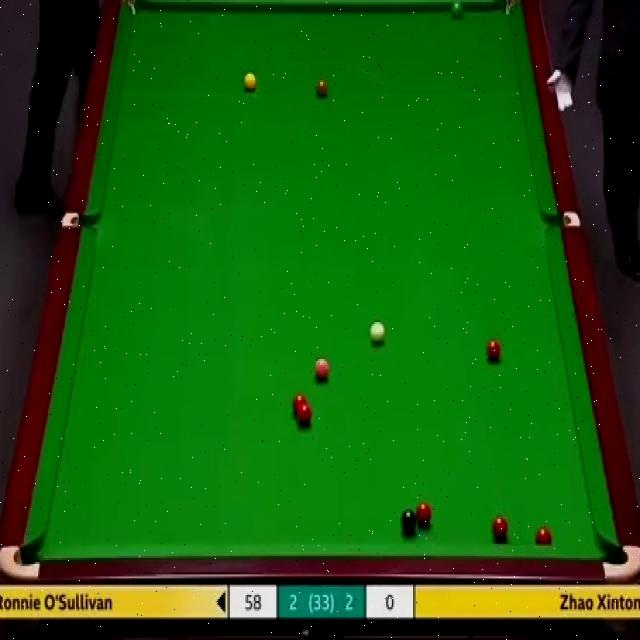black-ball: (400, 510, 417, 532)
brown-ball: (316, 76, 328, 96)
green-ball: (449, 0, 461, 16)
pink-ball: (315, 357, 329, 381)
red-ball: (415, 502, 433, 530), (491, 513, 509, 540), (486, 338, 500, 364), (292, 394, 306, 419), (298, 407, 313, 427), (536, 528, 552, 544)
white-ball: (369, 318, 386, 346)
yellow-ball: (243, 74, 256, 91)
